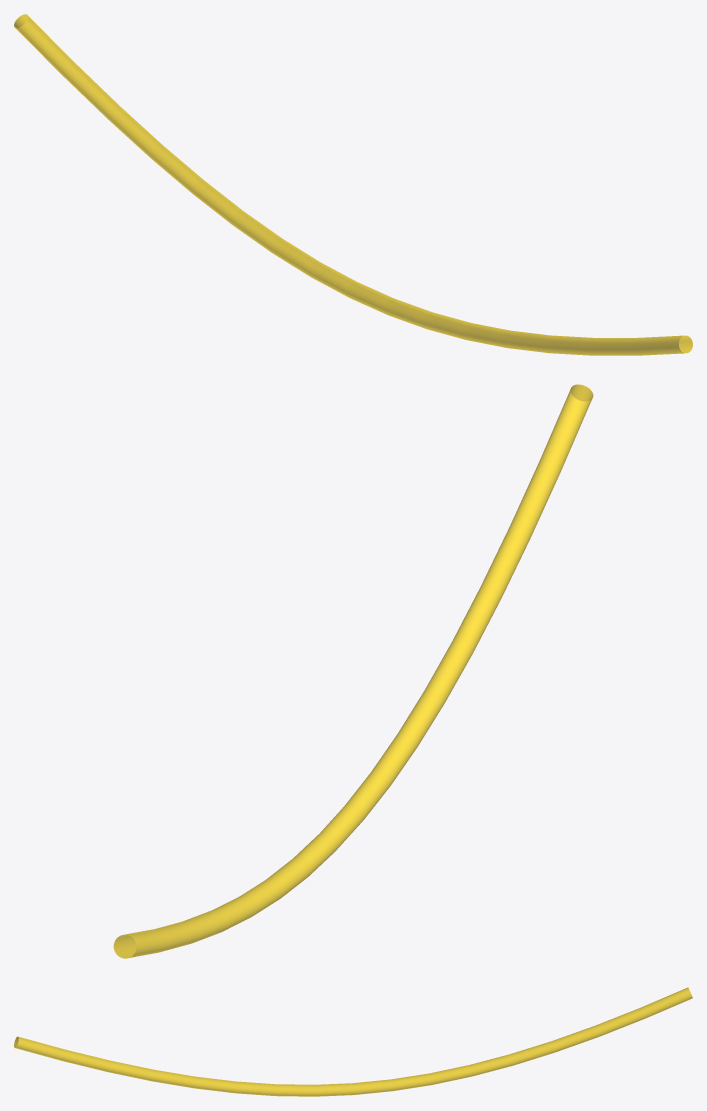
File: Event_419990632_track_86.fbx
3 views of the same model, one above another, from view 1: azimuth 30°, elevation 25°; view 2: azimuth 150°, elevation 25°; view 3: azimuth 270°, elevation 25° (orthographic). The views are drawn at different scales.
Visible parts, largest first — view 1: Model; view 2: Model; view 3: Model.
Part boxes in pixels (x1,y1,x2,y2): Model: [14, 14, 692, 355]; Model: [113, 384, 593, 958]; Model: [14, 987, 692, 1096].
Bounding box in the file's own units: 0.4577 × 0.3088 × 2.26.
